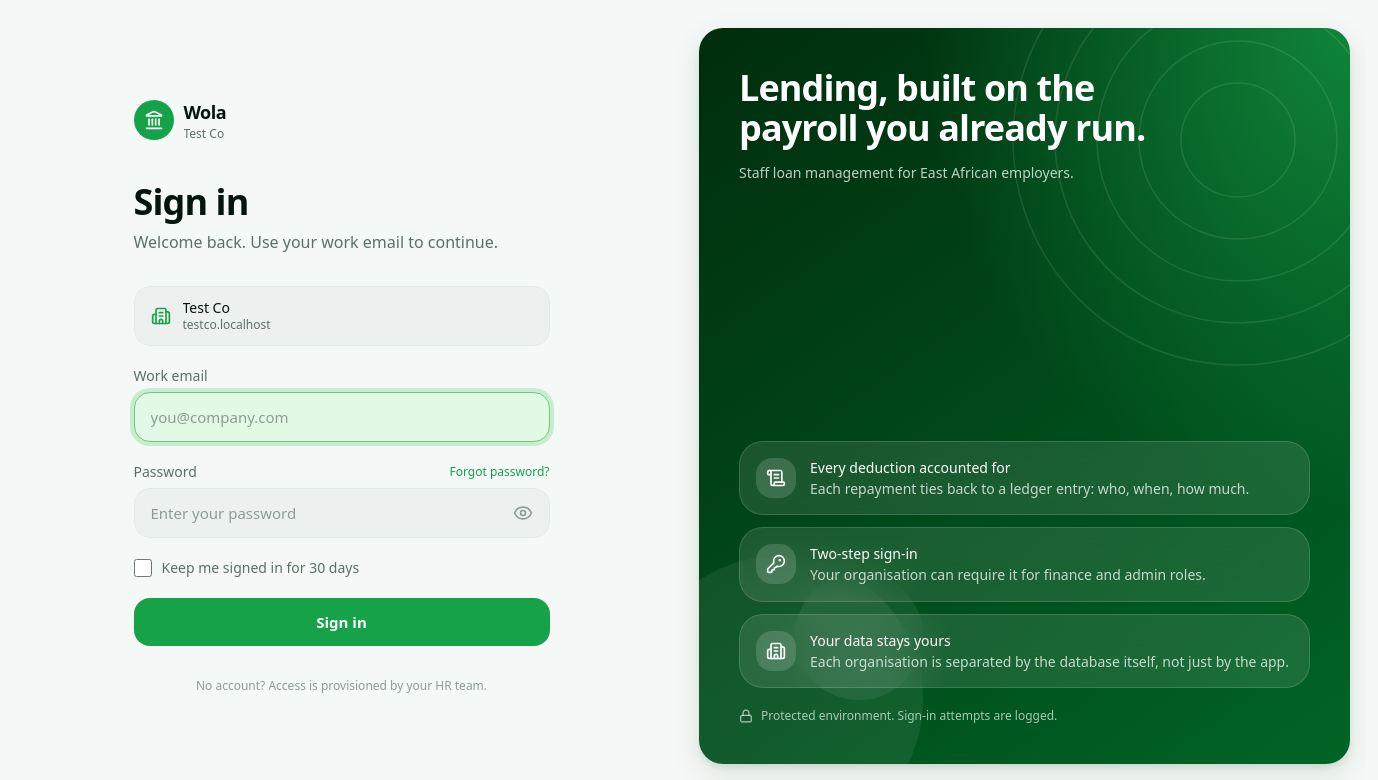
Test case: LoginForm two-step sign-in › password right + two-step on: asks for a code and does NOT navigate yet
Type "cfo@testco.io" into the field labelled "Work email" at (342, 417), box [134,393,548,441]
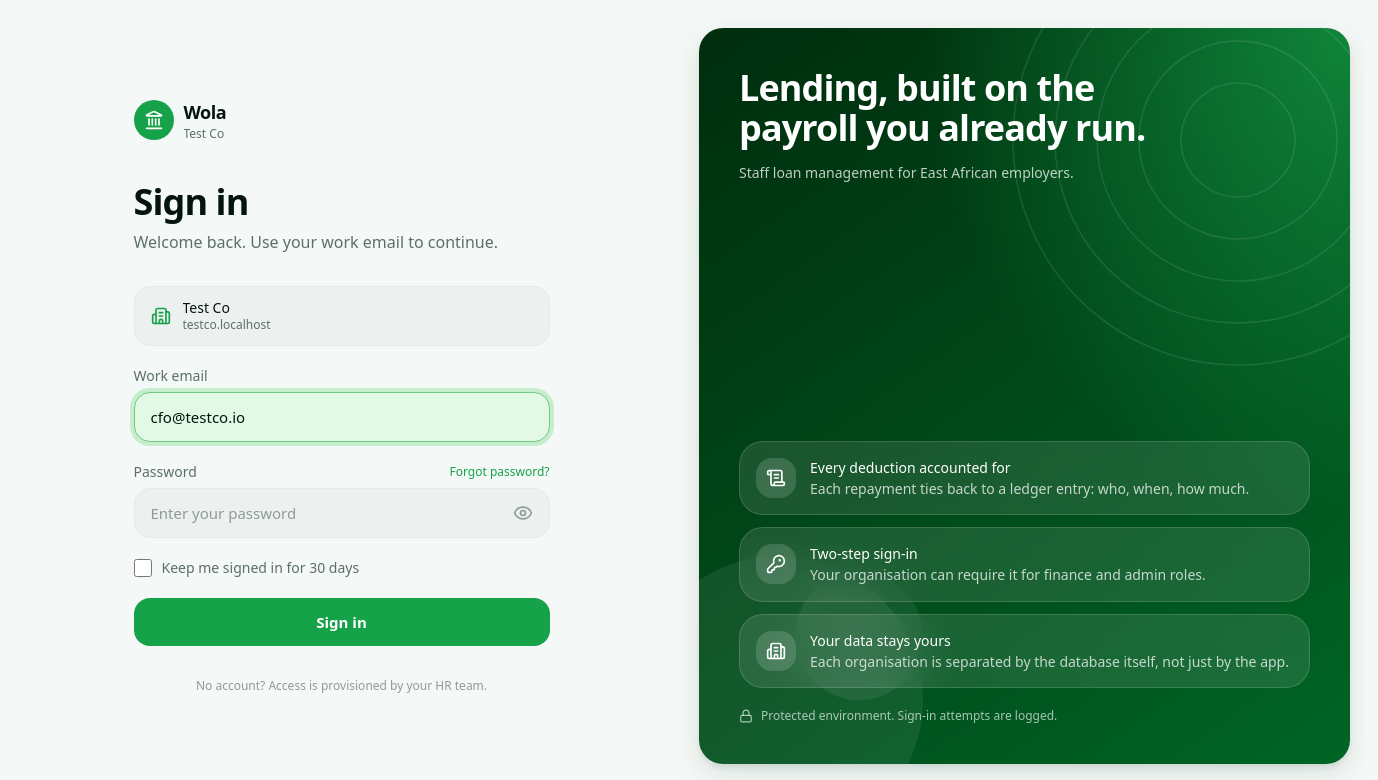
Type "secret-pass" into the password field labelled "Password" at (342, 513), box [134,489,548,537]
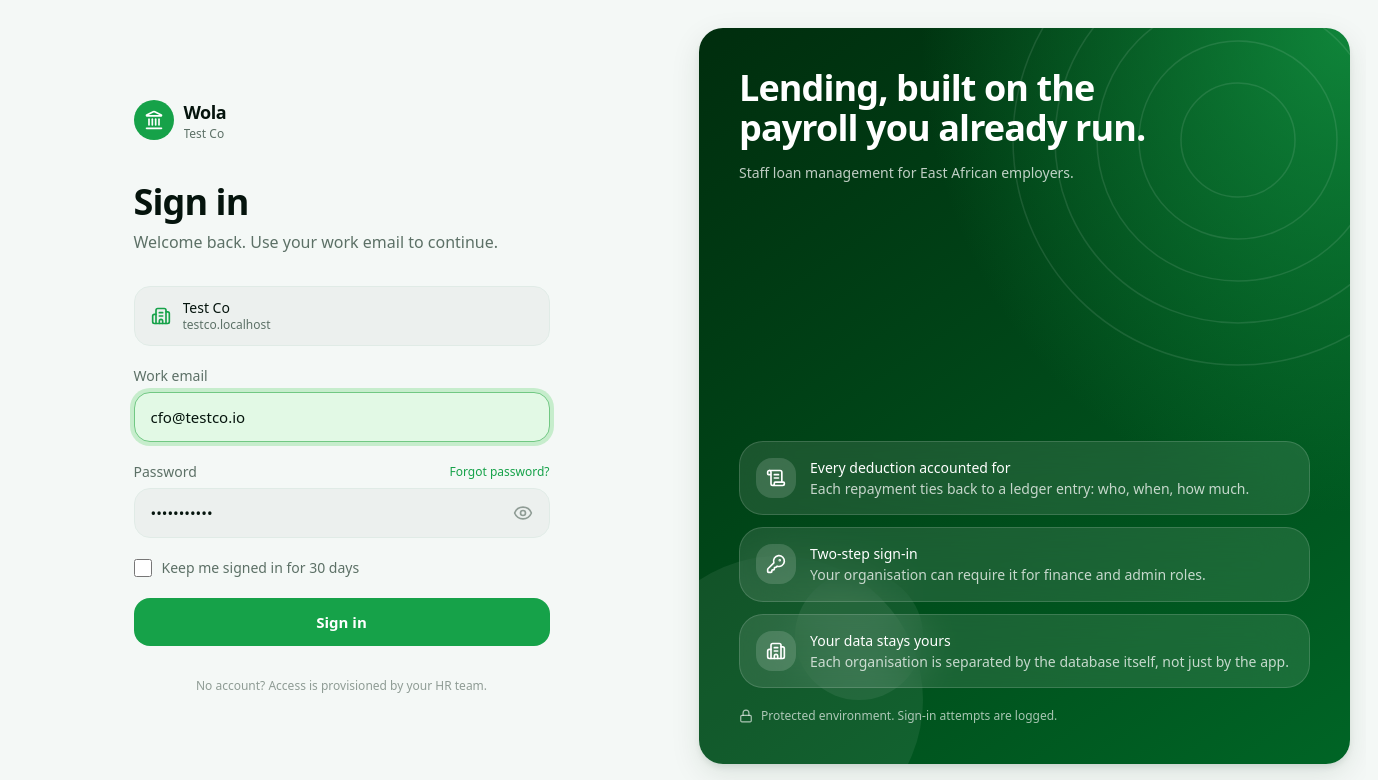
Click the button "Sign in" at (342, 622), box [134,598,550,646]
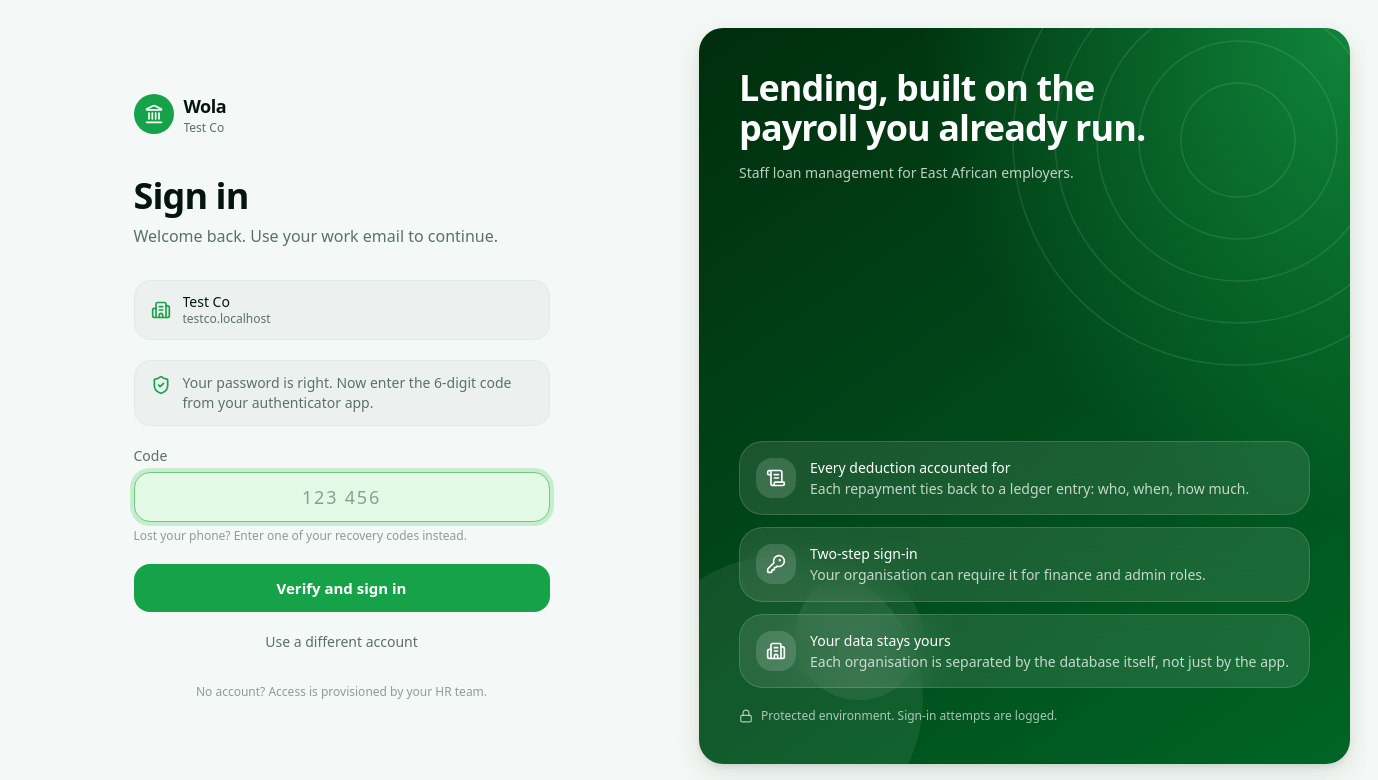
Check: the field labelled "Code" is shown, box [134,473,548,521]
Check: the text "Your password is right" is shown, box [182,373,511,412]
